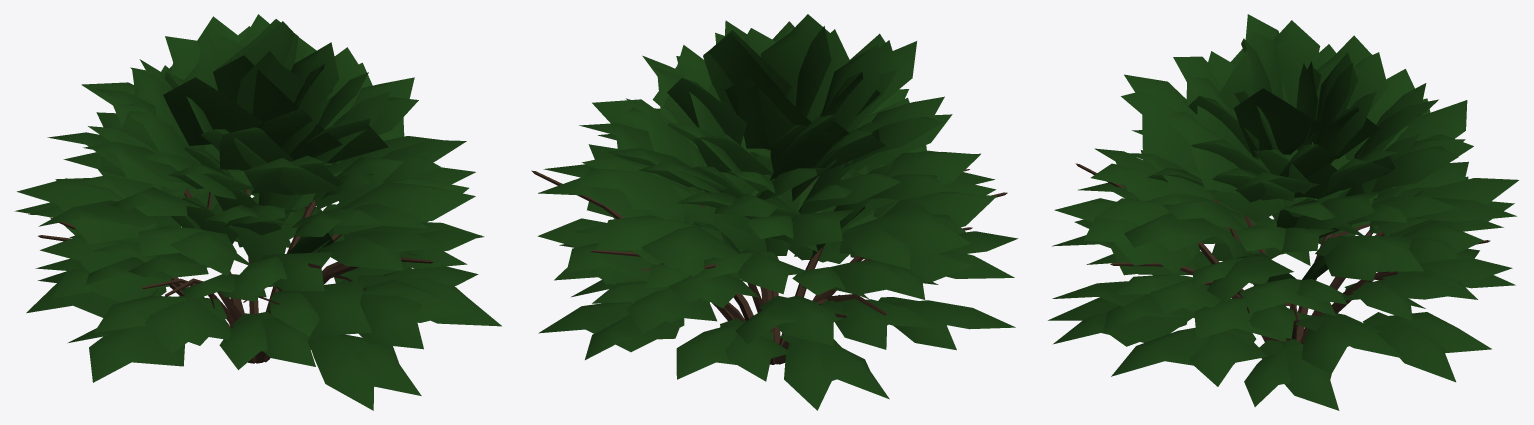
Rendered from Bush.fbx.
3 views of the same model, side by side, from view 1: azimuth 30°, elevation 25°; view 2: azimuth 150°, elevation 25°; view 3: azimuth 270°, elevation 25° (orthographic). The views are drawn at different scales.
Parts seen in each view (by area): view 1: Bush_Foliage, Bush_Stems; view 2: Bush_Foliage, Bush_Stems; view 3: Bush_Foliage, Bush_Stems.
Part boxes in pixels (x1,y1,x2,y2): Bush_Foliage: (14,14,501,410); Bush_Stems: (38,184,433,363); Bush_Foliage: (537,14,1017,410); Bush_Stems: (531,169,1007,364); Bush_Foliage: (1048,14,1518,410); Bush_Stems: (1075,163,1490,343).
Size of the model in its own units: 1.6 by 1.22 by 1.64.
